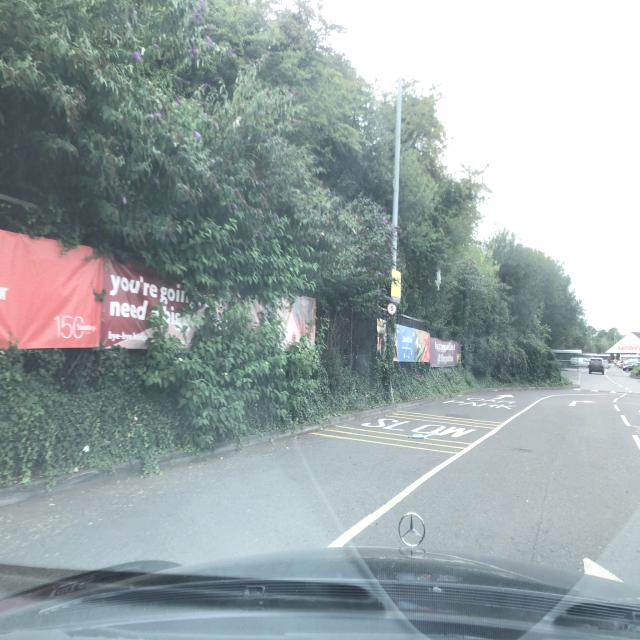car: (588, 357, 604, 375), (570, 357, 590, 367), (622, 362, 640, 372), (603, 359, 610, 370), (618, 361, 622, 368)
